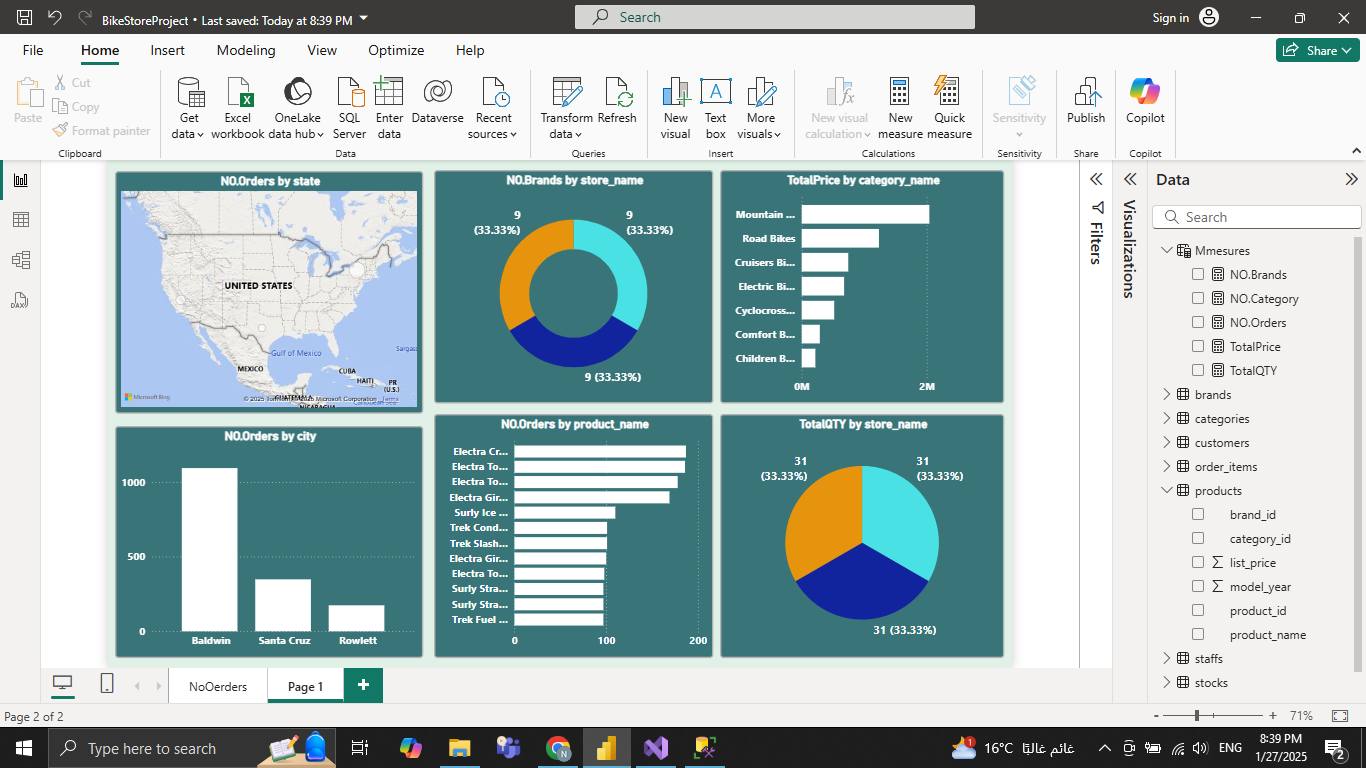

Layout of this report page (visuals, bound fields, positions):
{"tool":"powerbi","page":{"name":"Page 1","canvas":[1280,720],"ordinal":1},"visuals":[{"type":"map","fields":{"Category":["stores.state"],"Size":["Mmesures.NO.Orders"]},"box":[9.9,15.6,436.5,344.4],"z":0},{"type":"donutChart","fields":{"Category":["stores.store_name"],"Y":["Mmesures.NO.Brands"]},"box":[462.1,14.3,396.1,331.5],"z":1},{"type":"barChart","fields":{"Category":["categories.category_name"],"Y":["Mmesures.TotalPrice"]},"box":[866.7,14.3,403.2,331.5],"z":2},{"type":"columnChart","fields":{"Category":["stores.city"],"Y":["Mmesures.NO.Orders"]},"box":[9.9,377,436.5,328.8],"z":3},{"type":"pieChart","fields":{"Category":["stores.store_name"],"Y":["Mmesures.TotalQTY"]},"box":[867.4,360,402.5,345.8],"z":4},{"type":"barChart","fields":{"Category":["products.product_name"],"Y":["Mmesures.NO.Orders"]},"box":[462.1,360.2,396.1,345.8],"z":5}]}

Visuals, with their boxes on the page's 1280x720 design canvas (x1, y1, x2, y2). These are canvas units, not pixel positions in the 1366x768 screenshot, which may show the page scaled, cropped or inside an application window:
map - stores.state x Mmesures.NO.Orders: bbox=[10, 16, 446, 360]
donutChart - stores.store_name x Mmesures.NO.Brands: bbox=[462, 14, 858, 346]
barChart - categories.category_name x Mmesures.TotalPrice: bbox=[867, 14, 1270, 346]
columnChart - stores.city x Mmesures.NO.Orders: bbox=[10, 377, 446, 706]
pieChart - stores.store_name x Mmesures.TotalQTY: bbox=[867, 360, 1270, 706]
barChart - products.product_name x Mmesures.NO.Orders: bbox=[462, 360, 858, 706]
